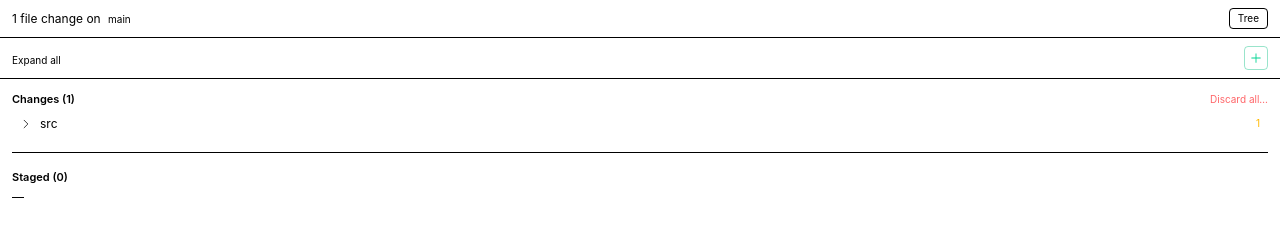
Test: GitWorkingTree › toggles path view and expands all folders in tree mode
What coordinates should you click on to do the following:
click the button "Expand all"
I would click on:
 (36, 60)
Its box is x1=12 y1=53 x2=61 y2=68.
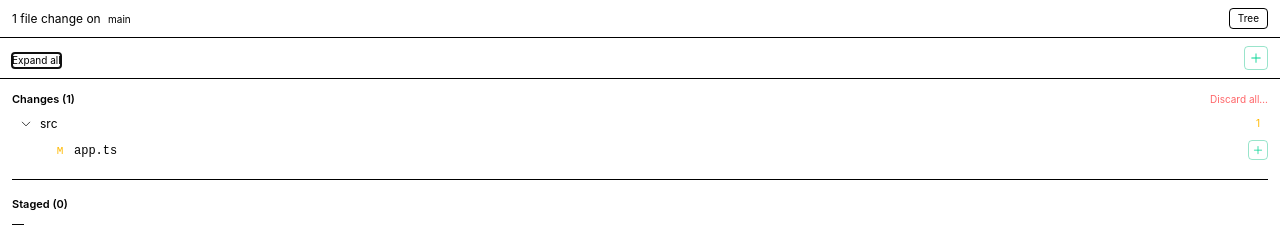
What coordinates should you click on to do the following:
click the button "Tree"
I would click on:
 (1248, 18)
Its box is x1=1229 y1=8 x2=1268 y2=29.
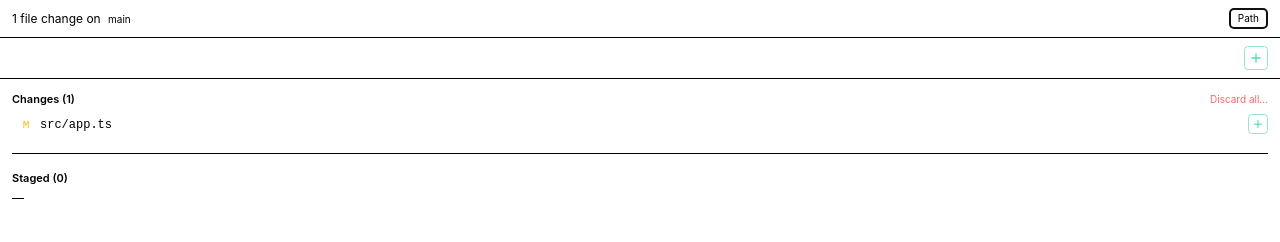
Expected: the button "Path" is shown, x1=1229 y1=8 x2=1268 y2=29
